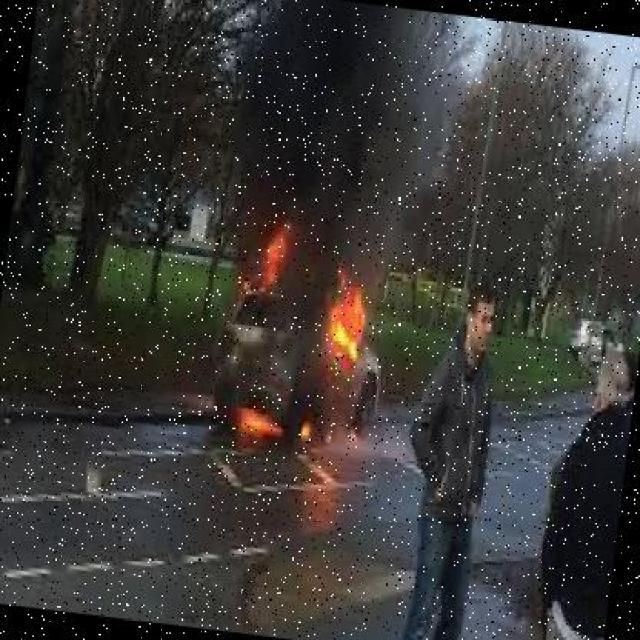fire: (202, 220, 390, 462)
